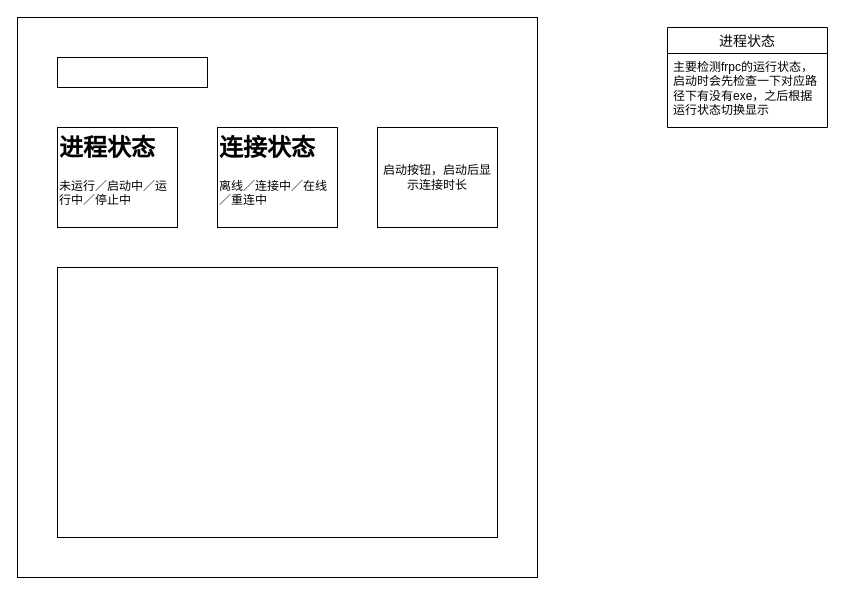
Some shapes in this 845 by 595 pixel diagram are drawn without their labels. The shapes that lost their labels are listed below. From the top down, each one's centre as x and y in pixels, then its label:
the point at 132,72: FRP-C 控制台
the point at 277,402: 日志信息
